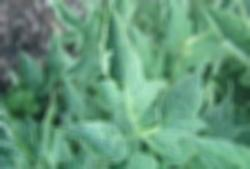Tomato leaf mosaic virus: (95, 0, 161, 121), (149, 56, 216, 142), (50, 117, 130, 166), (188, 136, 250, 169), (125, 155, 159, 169)
